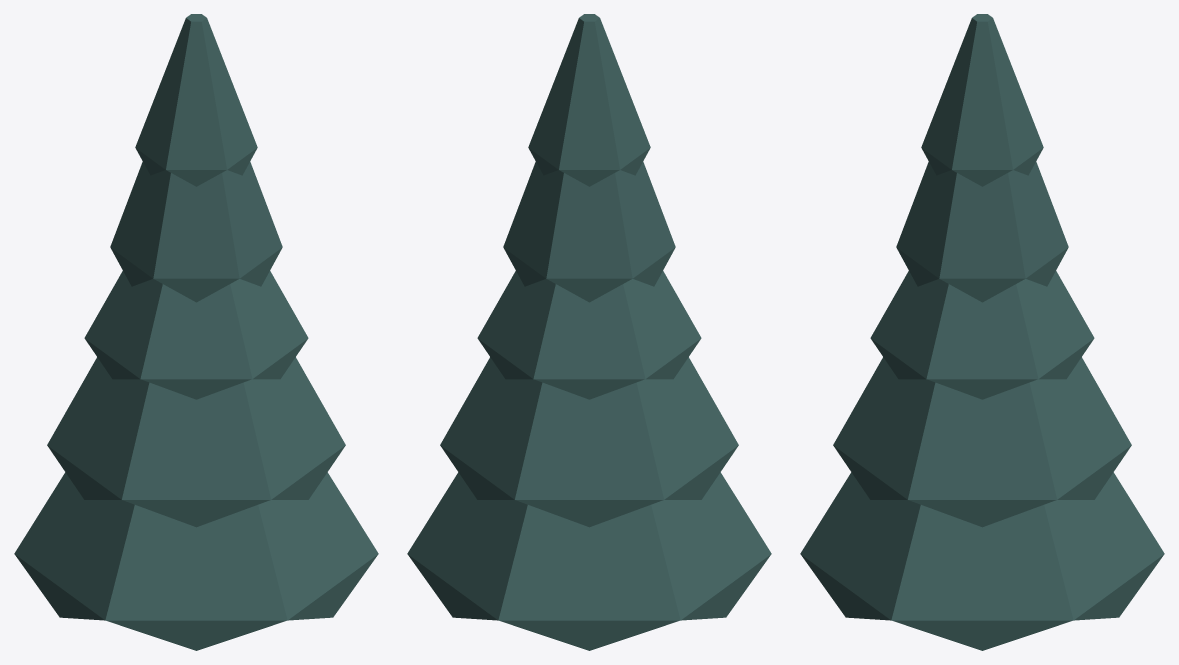
File: naturePack_088.fbx
3 renders of one model, left to right at view 1: azimuth 30°, elevation 25°; view 2: azimuth 150°, elevation 25°; view 3: azimuth 270°, elevation 25°, orthographic.
Parts seen in each view (by area): view 1: Mesh1_Group1 Model; view 2: Mesh1_Group1 Model; view 3: Mesh1_Group1 Model.
Boxes of the visible parts, x1,y1,x2,y2 form: Mesh1_Group1 Model: (14, 14, 378, 650); Mesh1_Group1 Model: (407, 14, 771, 650); Mesh1_Group1 Model: (800, 14, 1164, 650).
Bounding box in the file's own units: 1.92 × 3.8 × 2.22.
